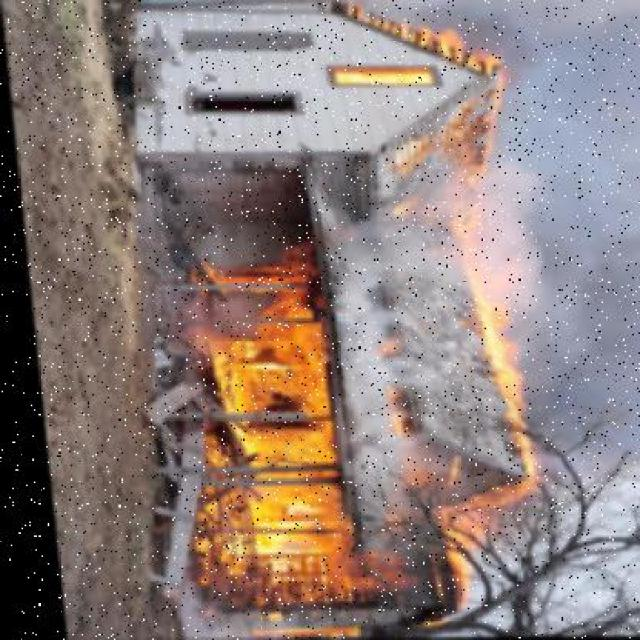fire: (137, 234, 510, 633)
